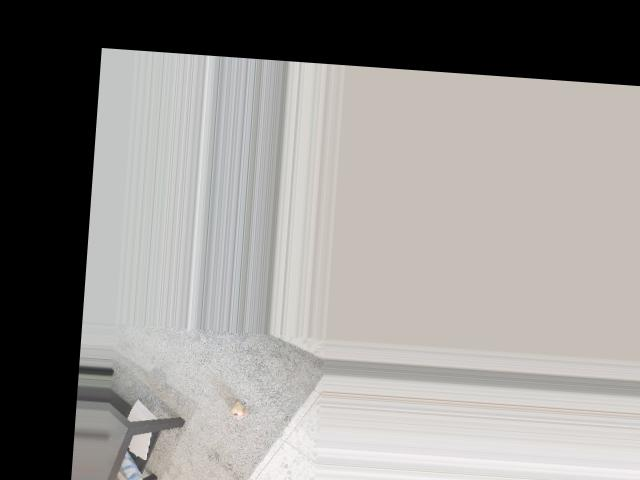onion: (228, 395, 252, 420)
